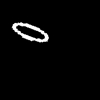chain: (12, 23, 47, 41)
